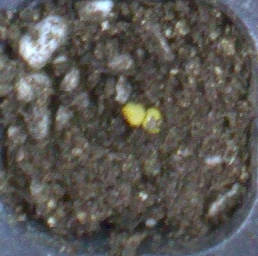pepper seed: (60, 39, 224, 174), (48, 37, 195, 165)
